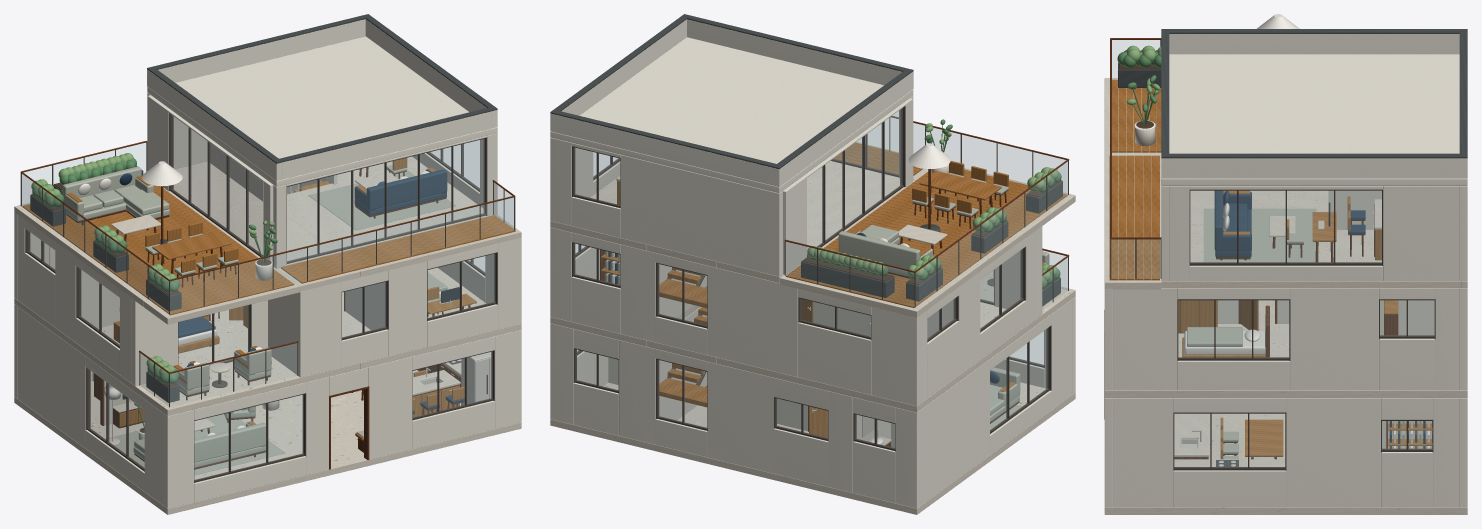
Rendered from House_3F_Full_Complete_Argon.glb.
3 renders of one model, left to right at view 1: azimuth 30°, elevation 25°; view 2: azimuth 150°, elevation 25°; view 3: azimuth 270°, elevation 25°, orthographic. The views are drawn at different scales.
Visible parts, largest first — view 1: 3F_ROOF_LID, W301, 3F_Glass_Railing, 1F_Floor_0, W101, 1F_West_Wall.003, D301, 2F_Floor_0, 3F_Glass_Railing.001, 1F_South_Wall.005, 2F_Glass_Railing, 2F_South_Wall (+86 smaller); view 2: 3F_ROOF_LID, 3F_North_Wall, 2F_North_Wall.003, D301, 1F_West_Wall.003, 1F_North_Wall.006, 3F_Glass_Railing.001, 1F_Floor_0, 2F_North_Wall, 3F_Glass_Railing.002, 2F_North_Wall.001, 3F_Parapet.003 (+72 smaller); view 3: 3F_ROOF_LID, W302, 1F_East_Wall.003, 2F_East_Wall.003, 3F_East_Wall.003, 1F_East_Wall, 2F_East_Wall, 3F_Parapet.001, W208, 3F_Parapet, W108, 1F_Floor_0 (+66 smaller).
Boxes of the visible parts, x1,y1,x2,y2 form: 3F_ROOF_LID: (147, 36, 497, 186); W301: (287, 139, 484, 261); 3F_Glass_Railing: (170, 198, 513, 313); 1F_Floor_0: (14, 370, 521, 514); W101: (194, 395, 303, 479); 1F_West_Wall.003: (18, 307, 85, 447); D301: (171, 115, 262, 255); 2F_Floor_0: (14, 298, 360, 415); 3F_Glass_Railing.001: (22, 174, 168, 313); 1F_South_Wall.005: (368, 356, 412, 459); 2F_Glass_Railing: (170, 343, 296, 406); 2F_South_Wall: (297, 281, 341, 377); 3F_ROOF_LID: (550, 37, 913, 193); 3F_North_Wall: (620, 155, 782, 276); 2F_North_Wall.003: (707, 266, 798, 376); D301: (807, 108, 902, 249); 1F_West_Wall.003: (920, 359, 989, 505); 1F_North_Wall.006: (707, 361, 773, 473); 3F_Glass_Railing.001: (916, 162, 1067, 306); 1F_Floor_0: (550, 382, 1075, 514); 2F_North_Wall: (871, 306, 920, 405); 3F_Glass_Railing.002: (785, 242, 914, 306); 2F_North_Wall.001: (798, 322, 871, 394); 3F_Parapet.003: (556, 115, 773, 185); 3F_ROOF_LID: (1161, 54, 1467, 185); W302: (1190, 191, 1381, 262); 1F_East_Wall.003: (1286, 398, 1380, 507); 2F_East_Wall.003: (1290, 288, 1378, 390); 3F_East_Wall.003: (1383, 186, 1459, 280); 1F_East_Wall: (1113, 398, 1173, 507); 2F_East_Wall: (1113, 288, 1177, 390); 3F_Parapet.001: (1161, 158, 1467, 178); W208: (1178, 300, 1288, 357); 3F_Parapet: (1169, 34, 1459, 54); W108: (1174, 414, 1284, 466); 1F_Floor_0: (1104, 413, 1467, 514).
Size of the model in its own units: 12 by 9.8 by 9.02.
Materials: 17 (8 with a texture image).
